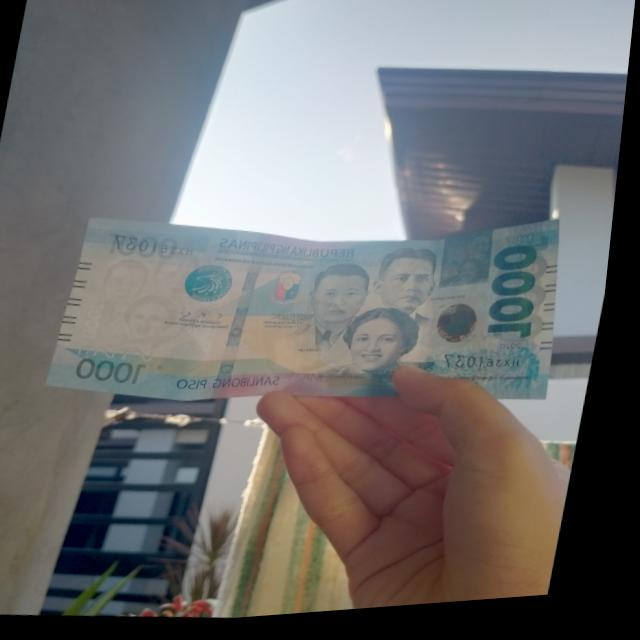concealed_value: (446, 237, 498, 295)
optically_variable_device: (435, 302, 494, 357)
security_thread: (220, 237, 278, 404)
see_through_mark: (78, 338, 169, 371)
serial_number: (109, 228, 214, 268), (449, 353, 534, 385)
value_watermark: (85, 302, 112, 343)
watermark: (99, 245, 212, 349)
